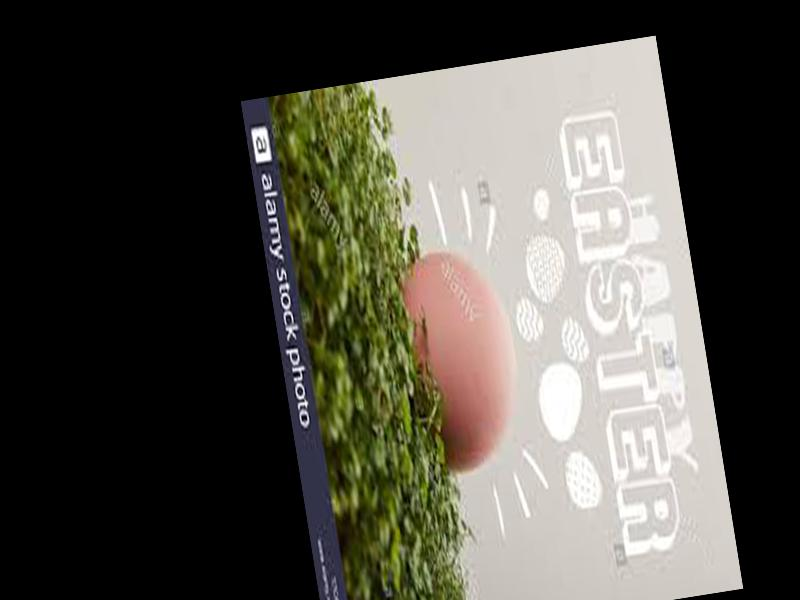Eggs: (397, 246, 530, 481)
